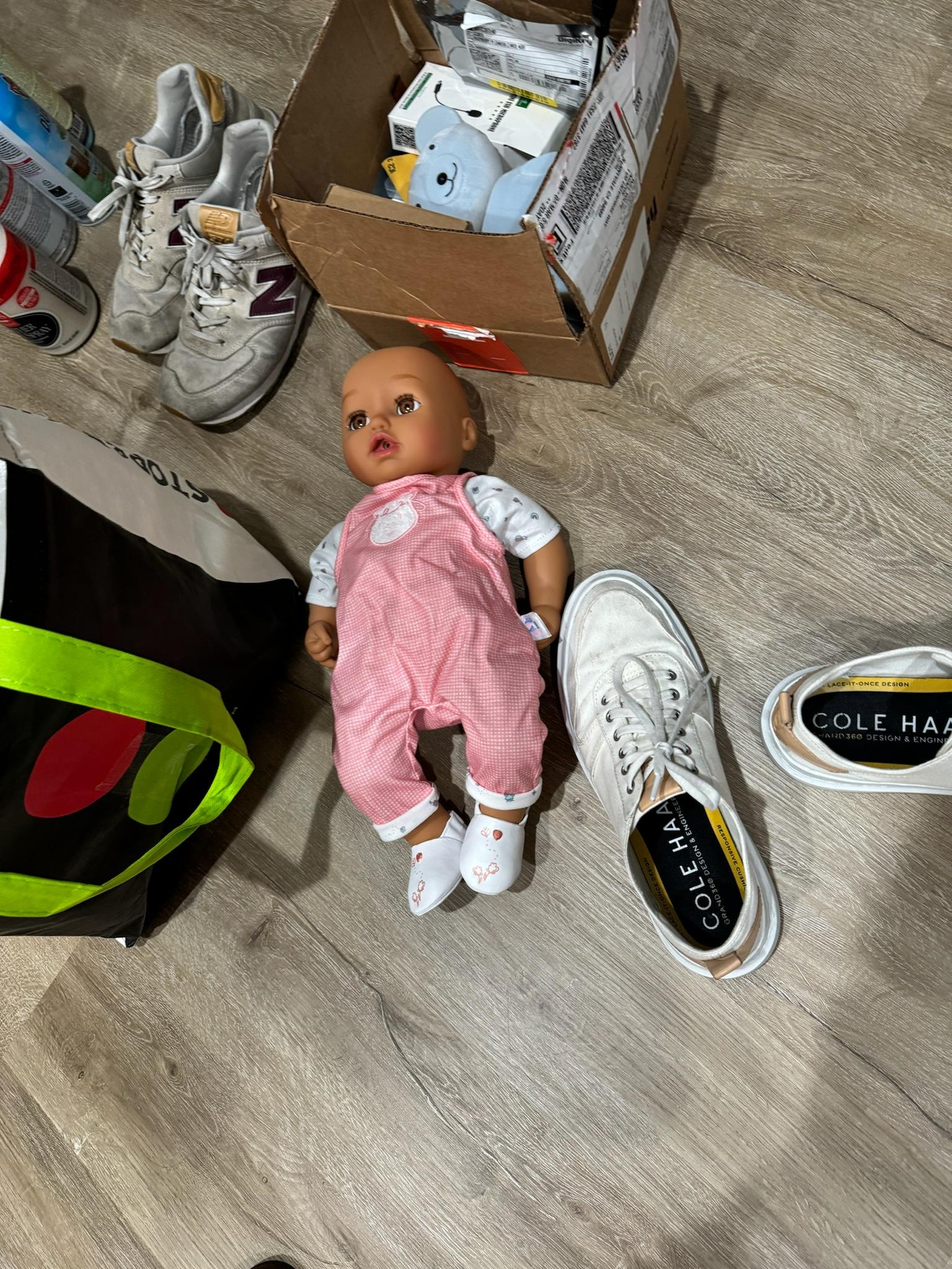baby: (262, 337, 585, 944)
